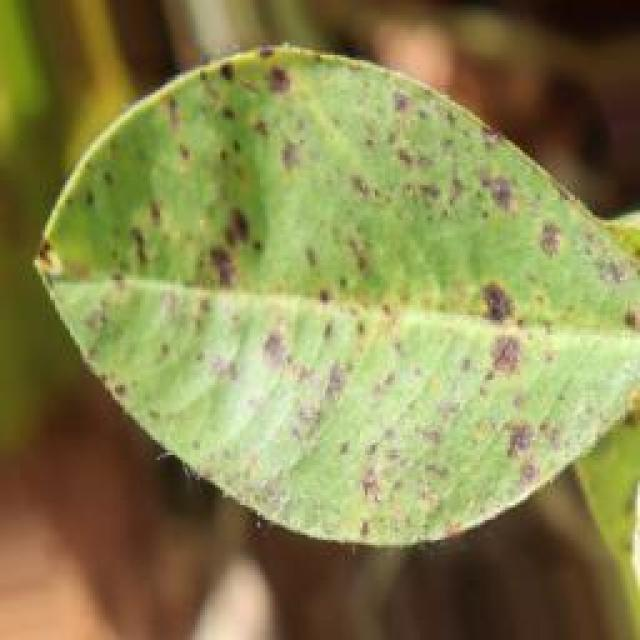Yellowish: (44, 51, 610, 556)
